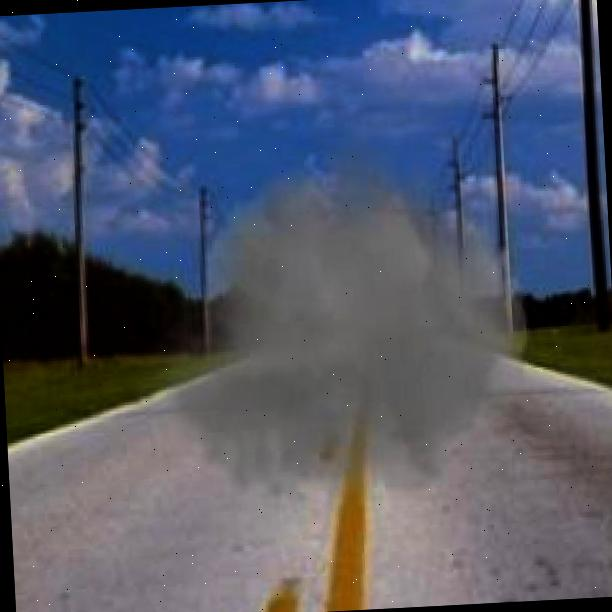smoke: (115, 107, 551, 552)
